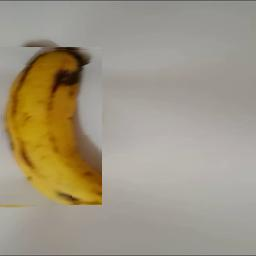Banana Semifresh: (0, 47, 102, 205)
